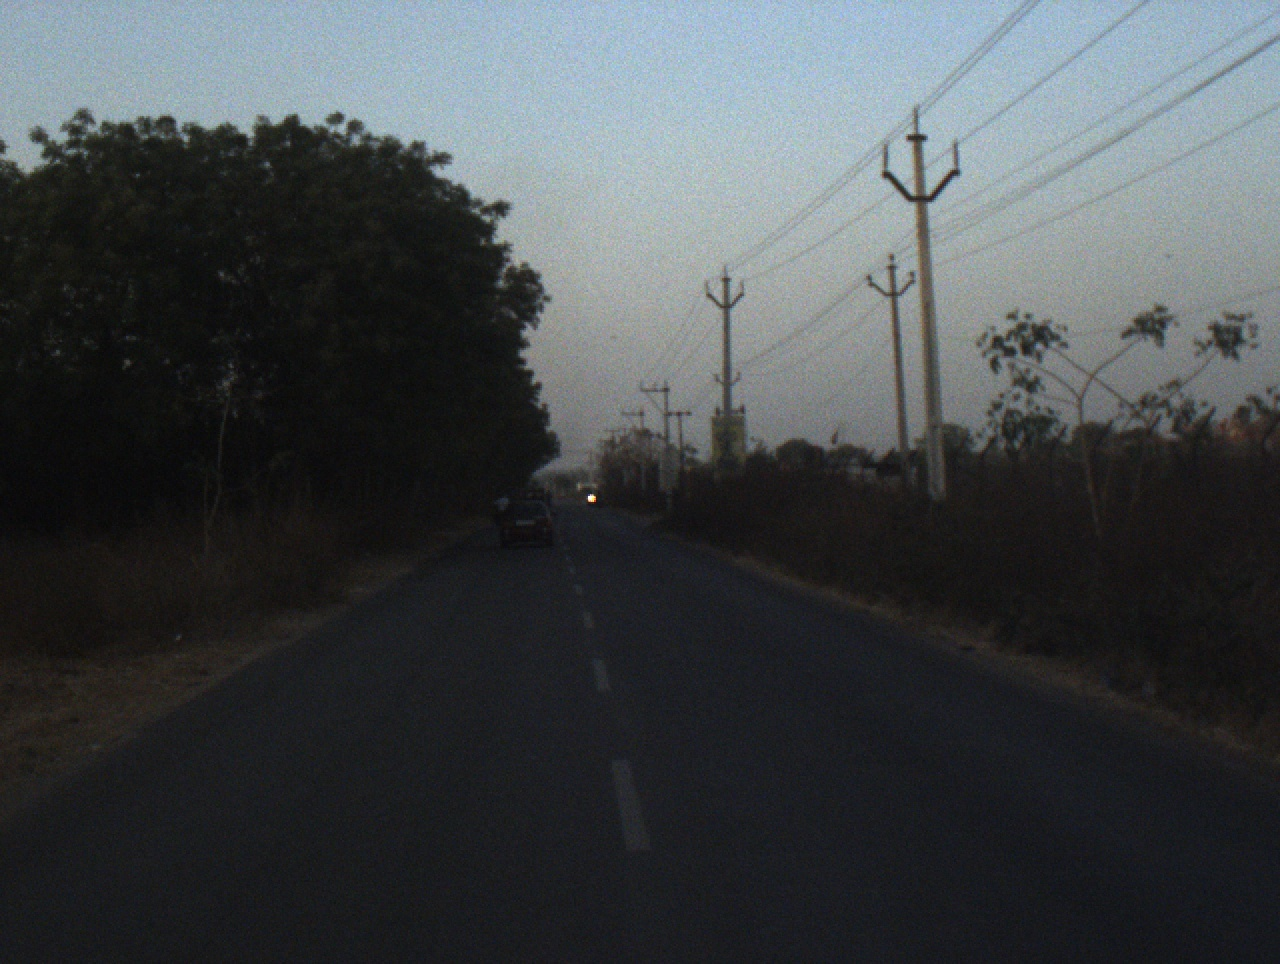autorickshaw: (517, 483, 549, 499)
car: (492, 500, 556, 548)
rider: (494, 493, 510, 518)
vehicle fallback: (581, 488, 602, 507)
